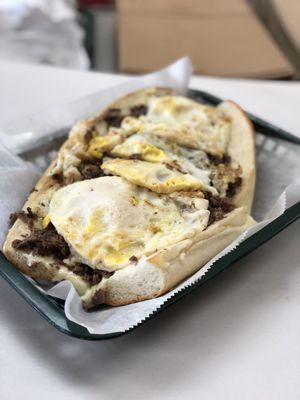pizza: (114, 0, 298, 79)
